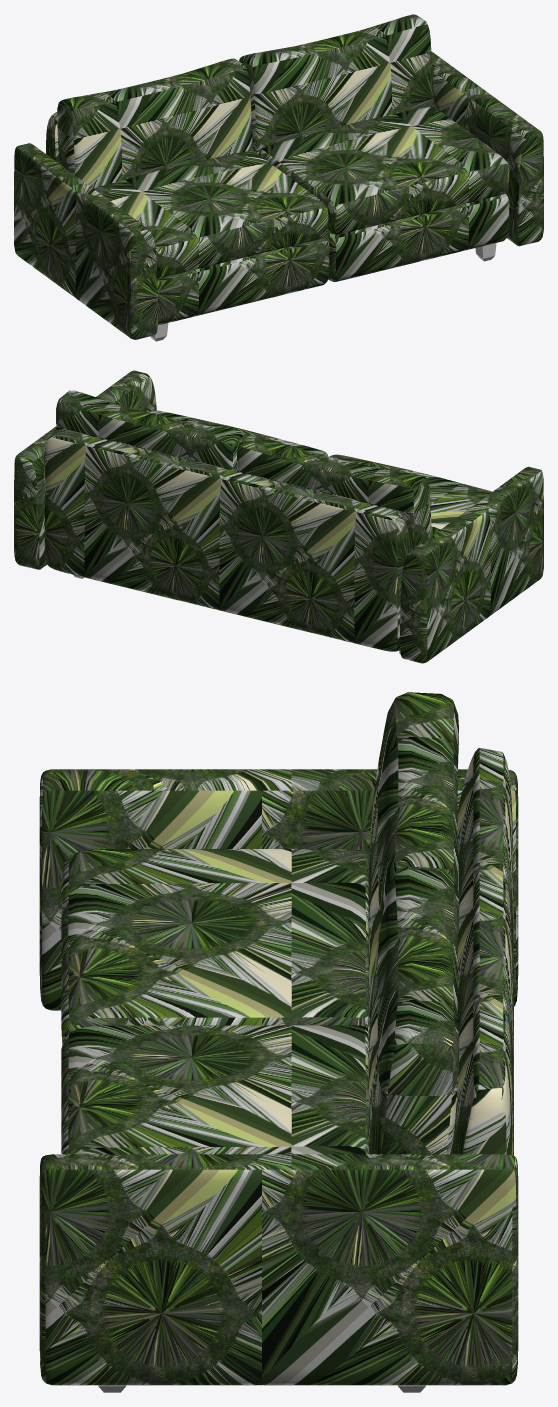
The model's file is Couch.fbx.
3 views of the same model, one above another, from view 1: azimuth 30°, elevation 25°; view 2: azimuth 150°, elevation 25°; view 3: azimuth 270°, elevation 25° (orthographic). The views are drawn at different scales.
Visible parts, largest first — view 1: Couch_LOD_0; view 2: Couch_LOD_0; view 3: Couch_LOD_0.
Part boxes in pixels (x1=…): Couch_LOD_0: x1=14, y1=14, x2=543, y2=341; Couch_LOD_0: x1=14, y1=370, x2=543, y2=663; Couch_LOD_0: x1=39, y1=692, x2=518, y2=1392.
Size of what is drawn, in the model's own units: 205 by 86.32 by 102.
